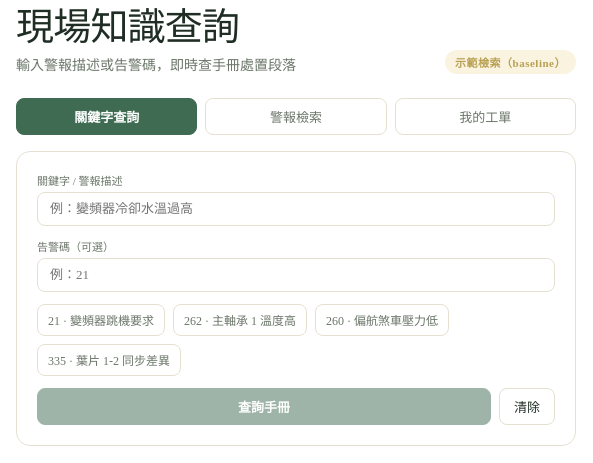
Test: FieldPage 現場知識查詢頁 › 常用告警碼 chip 一鍵帶入後查詢按鈕 enabled
Click the button with aria-label "帶入告警碼 21".
click(101, 320)  # box [37,304,165,336]
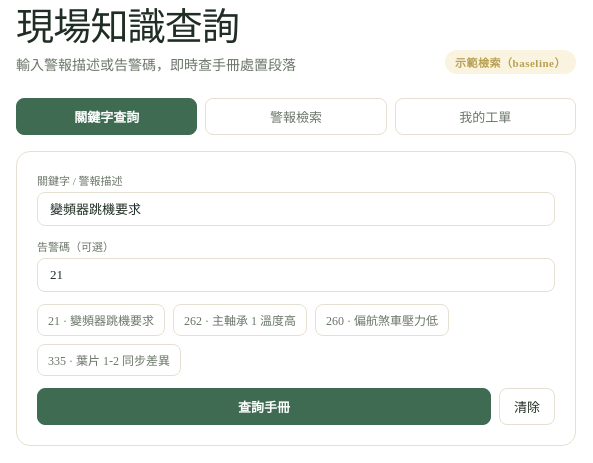
Expected: the button "查詢手冊" is enabled, [37,388,491,425]
